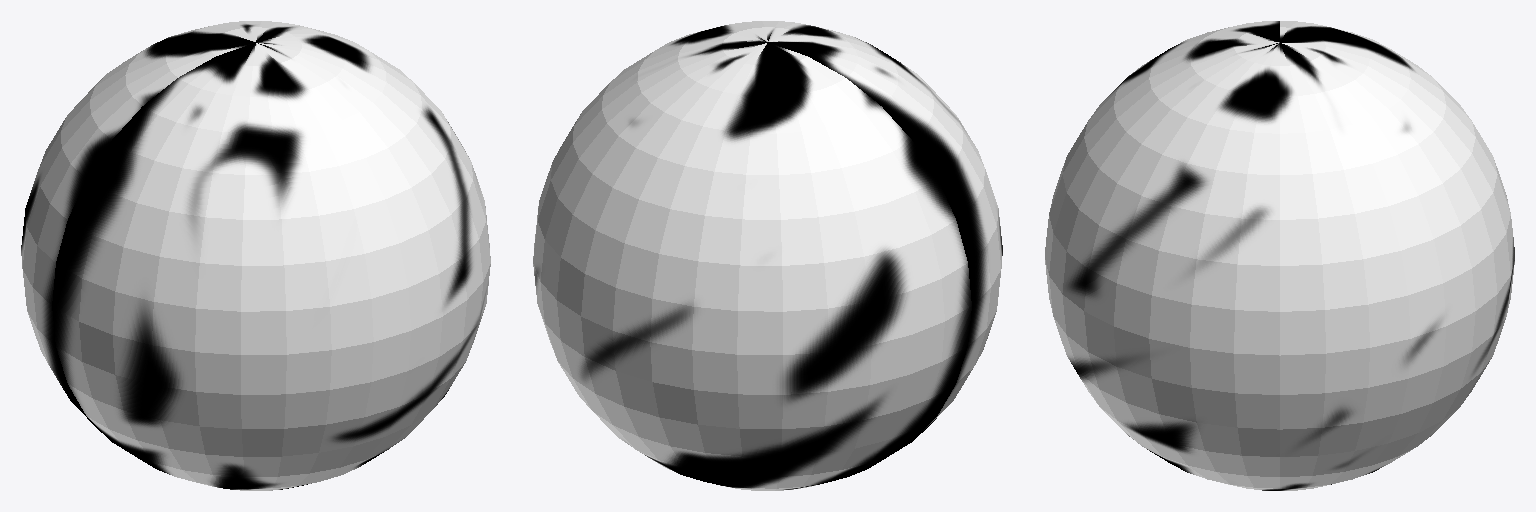
3 renders of one model, left to right at view 1: azimuth 30°, elevation 25°; view 2: azimuth 150°, elevation 25°; view 3: azimuth 270°, elevation 25°, orthographic.
Visible parts, largest first — view 1: Sphere; view 2: Sphere; view 3: Sphere.
Boxes of the visible parts, box(x1,y1,x2,y2) form: Sphere: box(21, 21, 490, 490); Sphere: box(533, 21, 1002, 490); Sphere: box(1045, 21, 1514, 490).
Size of the model in its own units: 2 by 2 by 2.
Materials: 1 (1 with a texture image).